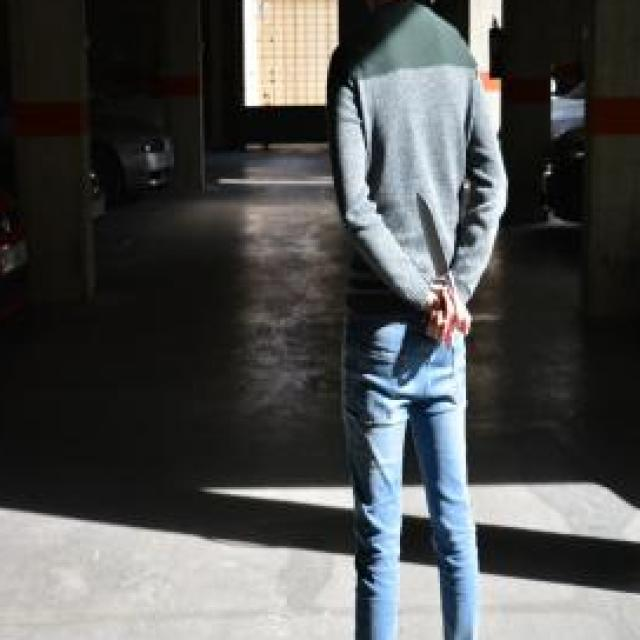knife: (414, 186, 466, 332)
